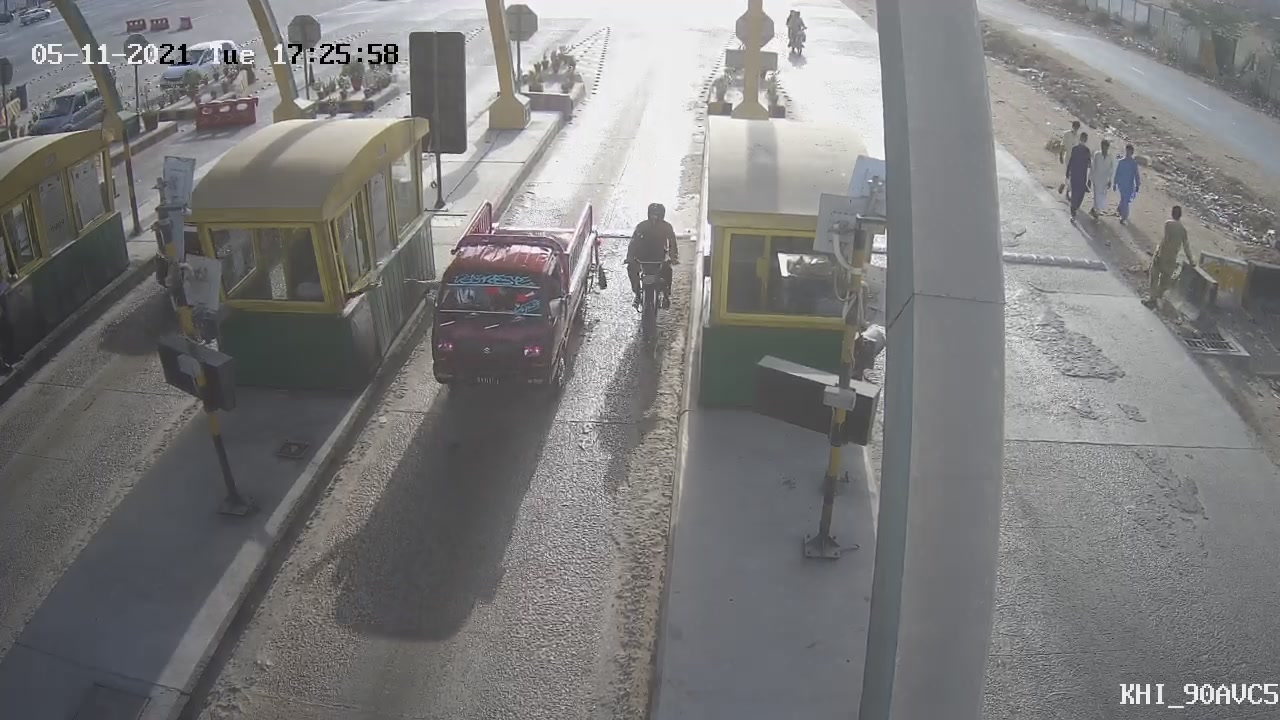F1: (412, 194, 611, 414)
